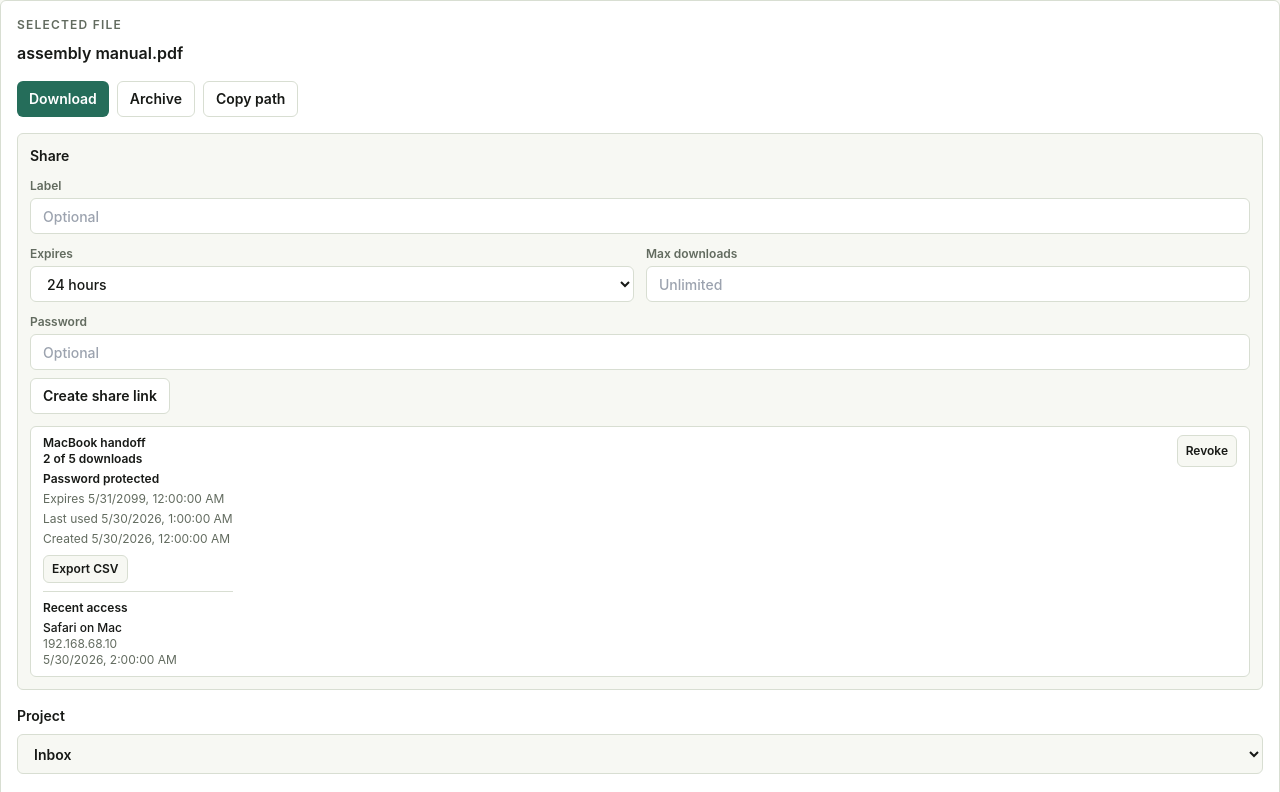
DetailDrawer › loads and revokes existing share links
Check: the text "MacBook handoff" is shown, box [43,435,146,450]
Check: the text "2 of 5 downloads" is shown, box [43,451,142,466]
Click the button with aria-label "Revoke share link" at (1207, 451), box [1177,435,1237,467]
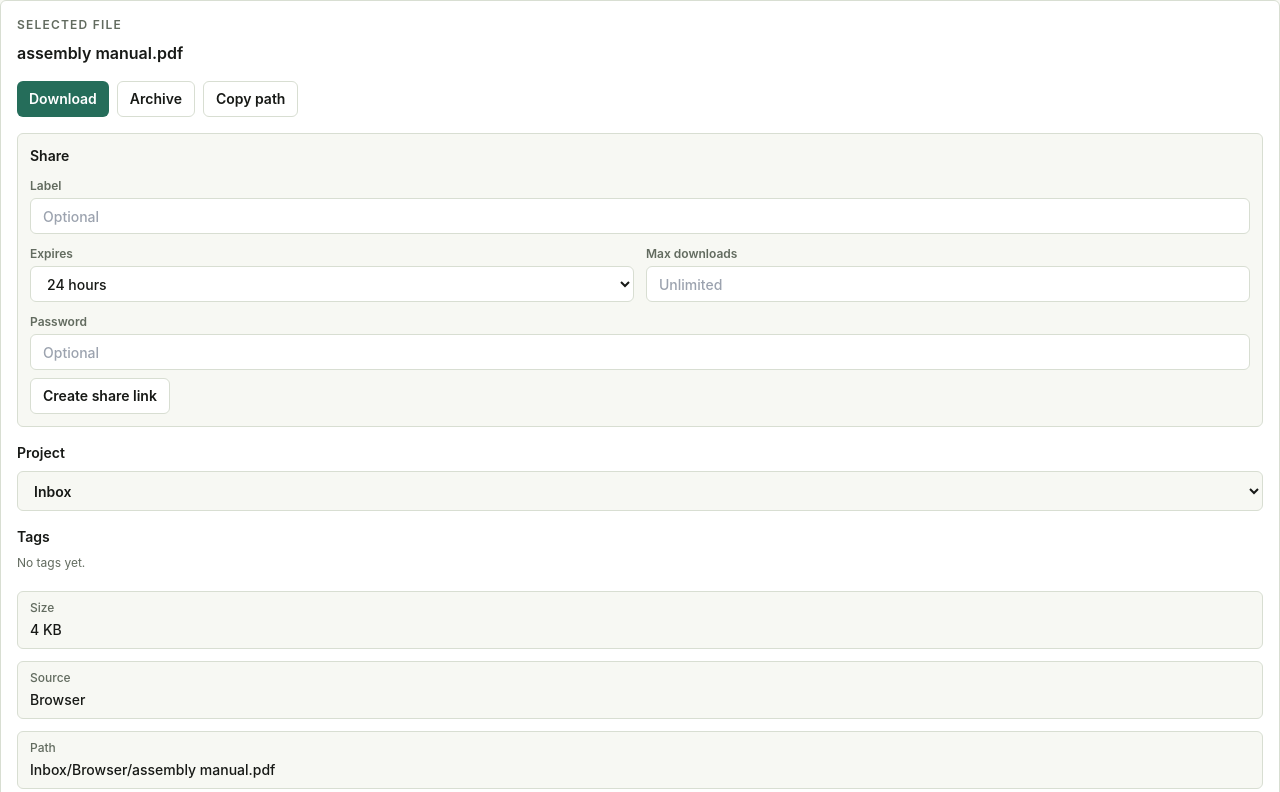
Check: the text "MacBook handoff" is gone
